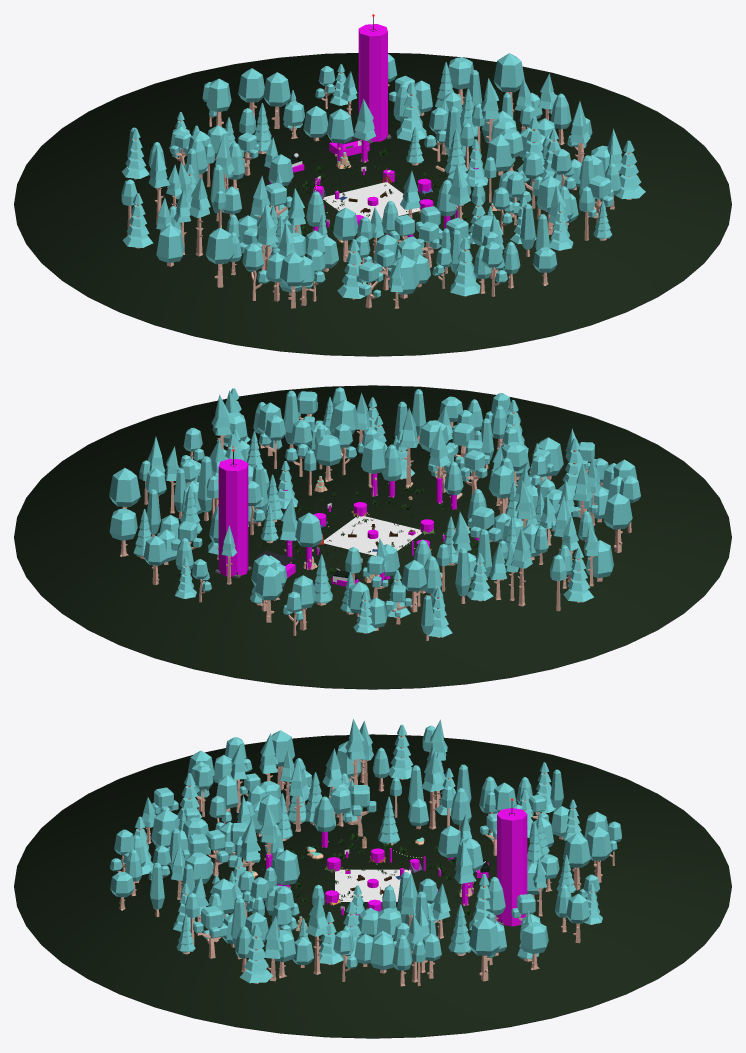
Rendered from acampamento.glb.
3 renders of one model, top to bottom at view 1: azimuth 30°, elevation 25°; view 2: azimuth 150°, elevation 25°; view 3: azimuth 270°, elevation 25°, orthographic.
Visible parts, largest first — view 1: GROUND_camp, COL_cyl_tower, DECAL_dirt, KEN_tree_pineRoundA_176, KEN_tree_default_dark_41, KEN_tree_default_dark_165, KEN_tree_pineRoundA_22, static_grass_t020901, KEN_tree_pineRoundA_169, KEN_tree_fat_darkh_66, KEN_tree_pineRoundA_79, KEN_tree_default_dark_111 (+36 smaller); view 2: GROUND_camp, COL_cyl_tower, DECAL_dirt, static_grass_t020901, KEN_tree_default_dark_165, KEN_tree_default_dark_41, KEN_tree_pineRoundA_79, KEN_tree_default_dark_34, KEN_tree_oak_dark_116, KEN_tree_thin_dark_115, KEN_tree_oak_dark_107, KEN_tree_default_dark_173 (+43 smaller); view 3: GROUND_camp, COL_cyl_tower, DECAL_dirt, static_grass_t020901, KEN_tree_default_dark_41, KEN_tree_pineRoundA_22, KEN_tree_detailed_dark_163, KEN_tree_default_dark_111, KEN_tree_oak_dark_116, KEN_tree_pineRoundA_79, KEN_tree_detailed_dark_149, KEN_tree_default_dark_34 (+37 smaller).
Boxes of the visible parts, <box> form: GROUND_camp: <box>14,53,731,356</box>; COL_cyl_tower: <box>358,24,387,141</box>; DECAL_dirt: <box>323,182,419,221</box>; KEN_tree_pineRoundA_176: <box>450,237,480,296</box>; KEN_tree_default_dark_41: <box>493,53,524,115</box>; KEN_tree_default_dark_165: <box>205,227,234,287</box>; KEN_tree_pineRoundA_22: <box>615,140,645,199</box>; static_grass_t020901: <box>284,149,472,250</box>; KEN_tree_pineRoundA_169: <box>396,82,426,141</box>; KEN_tree_fat_darkh_66: <box>156,225,184,266</box>; KEN_tree_pineRoundA_79: <box>122,193,153,248</box>; KEN_tree_default_dark_111: <box>263,72,290,128</box>; GROUND_camp: <box>14,385,731,689</box>; COL_cyl_tower: <box>218,458,248,576</box>; DECAL_dirt: <box>324,516,421,556</box>; static_grass_t020901: <box>261,486,478,583</box>; KEN_tree_default_dark_165: <box>603,493,632,553</box>; KEN_tree_default_dark_41: <box>109,468,140,508</box>; KEN_tree_pineRoundA_79: <box>563,547,593,602</box>; KEN_tree_default_dark_34: <box>255,566,282,622</box>; KEN_tree_oak_dark_116: <box>109,508,137,556</box>; KEN_tree_thin_dark_115: <box>285,419,312,476</box>; KEN_tree_oak_dark_107: <box>314,434,341,481</box>; KEN_tree_default_dark_173: <box>295,512,322,569</box>; GROUND_camp: <box>14,734,731,1038</box>; COL_cyl_tower: <box>497,808,527,926</box>; DECAL_dirt: <box>335,869,410,901</box>; static_grass_t020901: <box>261,832,476,922</box>; KEN_tree_default_dark_41: <box>469,916,500,981</box>; KEN_tree_pineRoundA_22: <box>239,924,272,983</box>; KEN_tree_detailed_dark_163: <box>193,905,228,958</box>; KEN_tree_default_dark_111: <box>563,833,590,890</box>; KEN_tree_oak_dark_116: <box>520,921,548,970</box>; KEN_tree_pineRoundA_79: <box>388,724,413,779</box>; KEN_tree_detailed_dark_149: <box>345,785,376,836</box>; KEN_tree_default_dark_34: <box>586,826,611,882</box>.
Bounding box in the file's own units: 160 × 31.68 × 160.
